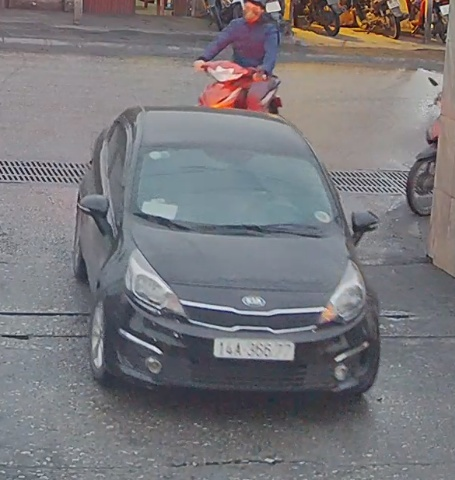vehicle plate: (205, 331, 302, 367)
